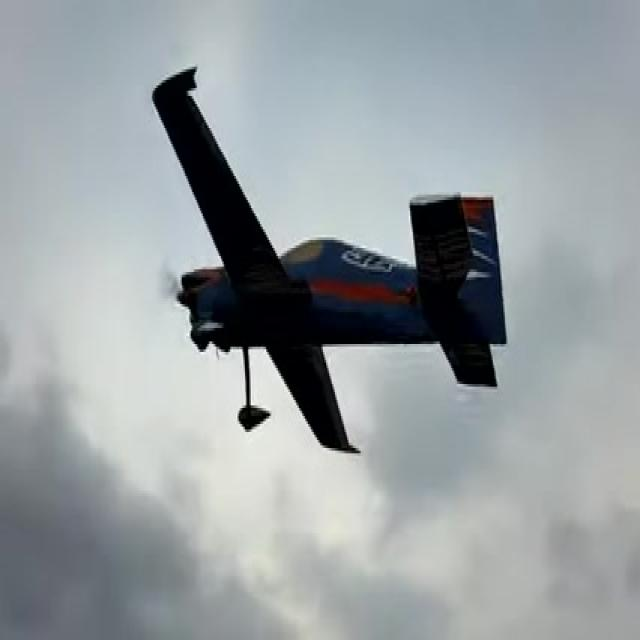iha: (145, 56, 502, 461)
